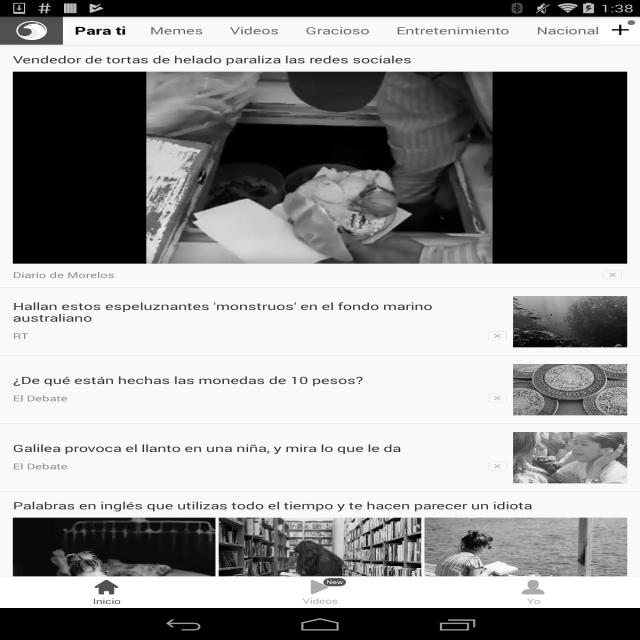ImageView: (13, 72, 627, 264), (13, 518, 215, 612), (219, 518, 421, 612), (425, 518, 627, 612), (513, 296, 627, 347), (513, 364, 627, 415), (513, 432, 627, 483), (0, 16, 63, 44), (242, 578, 427, 586), (600, 16, 638, 44), (598, 264, 627, 286), (483, 325, 512, 347), (483, 387, 512, 409), (483, 455, 512, 477), (63, 16, 71, 44), (627, 17, 640, 25)
RadioButton: (213, 576, 427, 608), (426, 576, 640, 607), (0, 576, 213, 607)
TextView: (13, 299, 512, 325), (13, 53, 627, 66), (13, 499, 627, 512), (13, 373, 512, 387), (13, 441, 512, 455), (13, 270, 598, 280), (12, 331, 482, 342), (12, 392, 482, 403), (12, 461, 482, 472), (383, 16, 523, 44), (292, 16, 383, 44), (59, 15, 140, 46), (523, 16, 612, 44), (136, 16, 216, 44), (217, 16, 292, 44)
